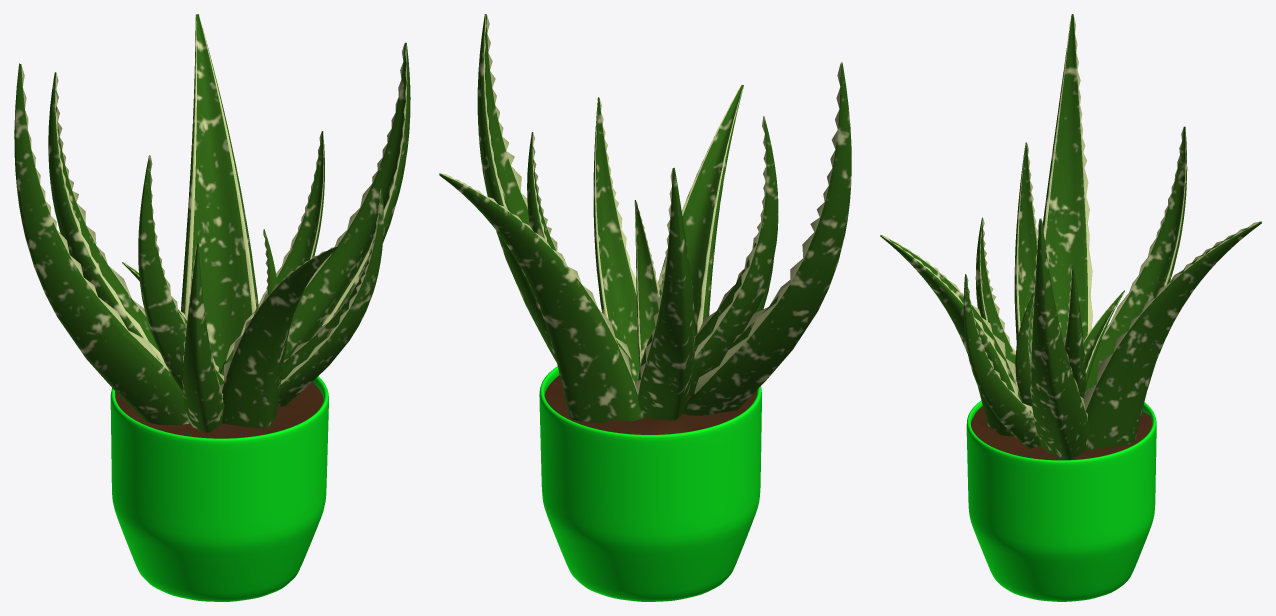
The model's file is lidah-buaya.gltf.
The picture shows the model from 3 angles, left to right: view 1: azimuth 30°, elevation 25°; view 2: azimuth 150°, elevation 25°; view 3: azimuth 270°, elevation 25°; orthographic projection. The views are drawn at different scales.
Visible parts, largest first — view 1: Aloe; view 2: Aloe; view 3: Aloe.
Boxes of the visible parts, x1=… form: Aloe: x1=14, y1=14, x2=410, y2=601; Aloe: x1=439, y1=14, x2=851, y2=601; Aloe: x1=880, y1=14, x2=1261, y2=601.
Bounding box in the file's own units: 1.02 × 1.42 × 1.02.
Materials: 4 (1 with a texture image).
